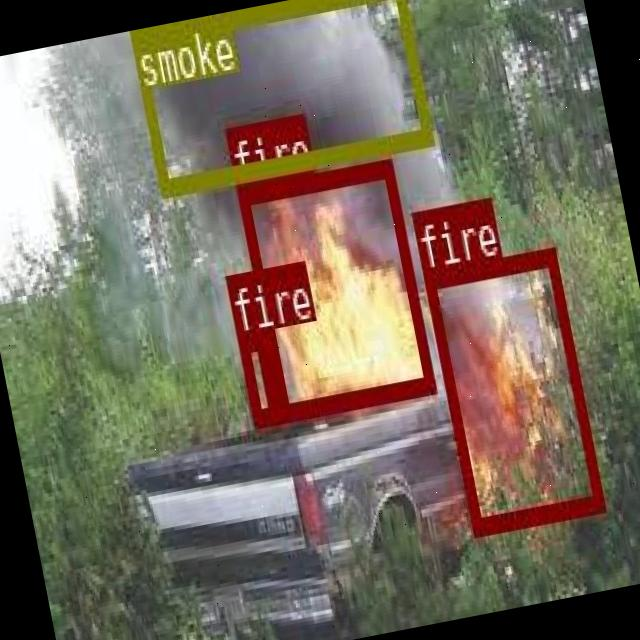fire: (234, 156, 433, 419), (422, 246, 602, 534), (235, 330, 278, 424)
smoke: (128, 0, 431, 196)
